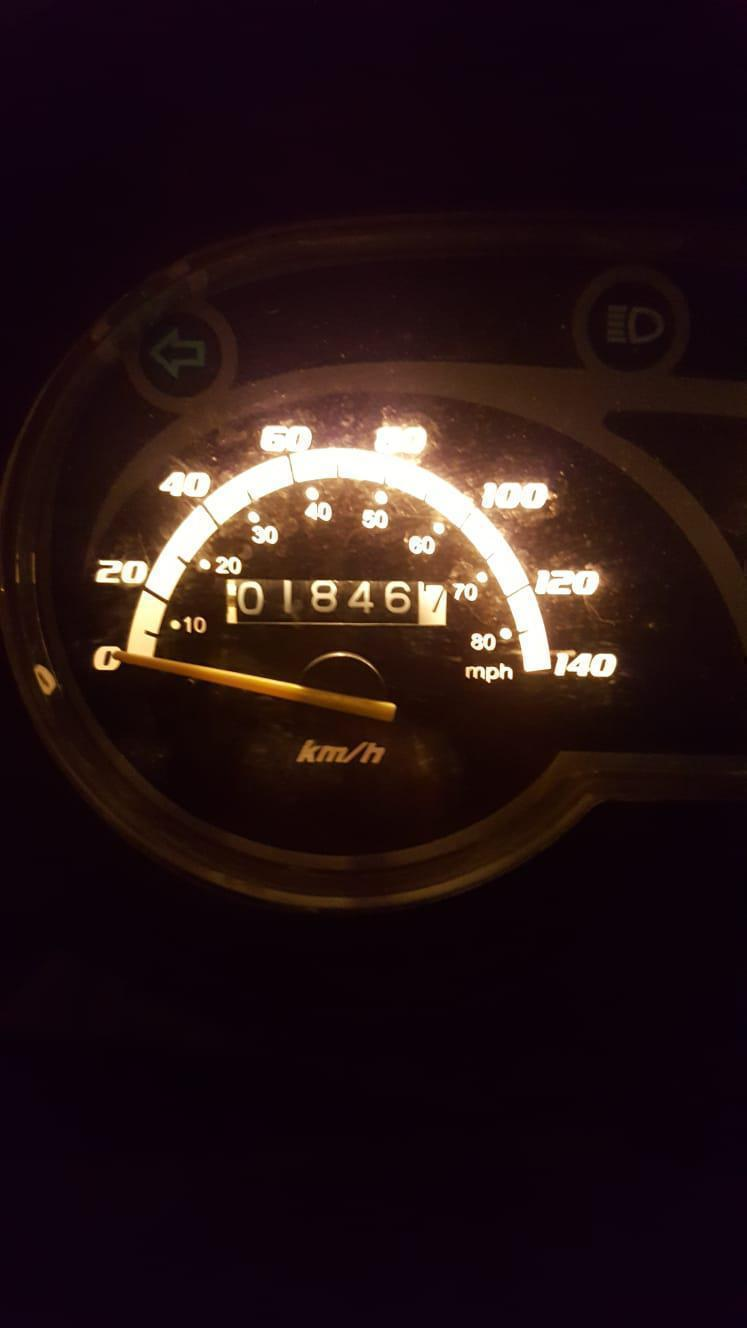0: (231, 579, 264, 619)
1: (279, 577, 298, 618)
4: (345, 579, 376, 615)
6: (382, 577, 413, 615)
7: (422, 577, 450, 615)
8: (307, 576, 341, 616)
odometer: (219, 572, 454, 638)
